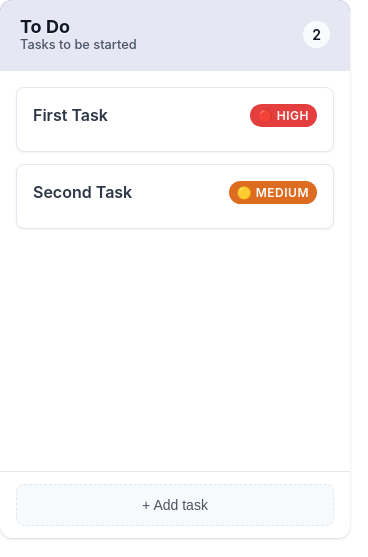
Test: KanbanColumn Component › Column Editing › should enter edit mode when title is double-clicked
Double-click the heading "To Do": (45, 26) [20,16,70,37]
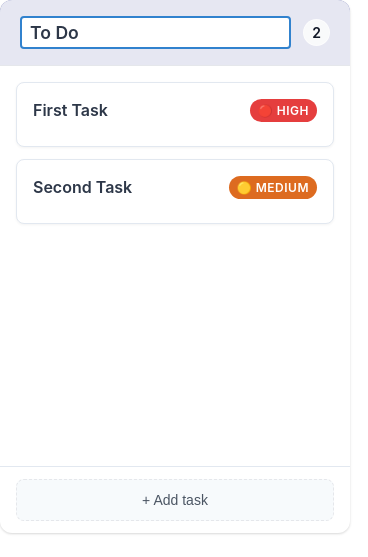
Expected: the field showing "To Do" is shown, [20,16,291,49]
